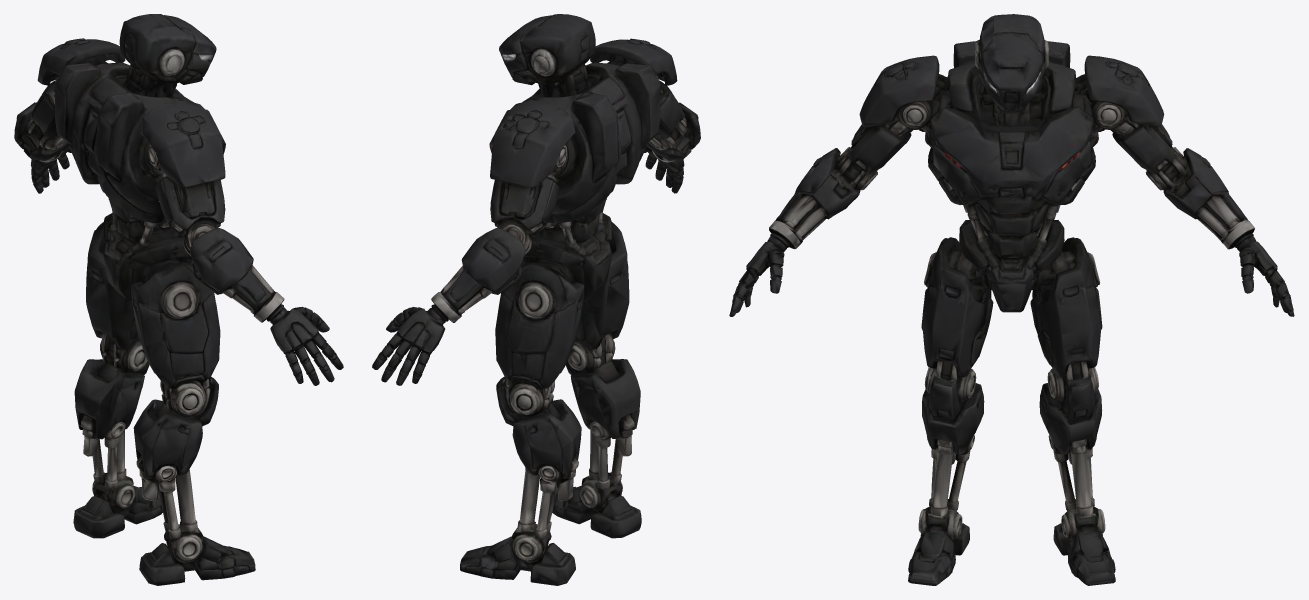
Rendered from robot.glb.
The picture shows the model from 3 angles, left to right: view 1: azimuth 30°, elevation 25°; view 2: azimuth 150°, elevation 25°; view 3: azimuth 270°, elevation 25°; orthographic projection.
Visible parts, largest first — view 1: tripo_node_f48e6271-146c-4523-a5e6-26322b852031; view 2: tripo_node_f48e6271-146c-4523-a5e6-26322b852031; view 3: tripo_node_f48e6271-146c-4523-a5e6-26322b852031.
Boxes of the visible parts, x1,y1,x2,y2 form: tripo_node_f48e6271-146c-4523-a5e6-26322b852031: (14,14,343,585); tripo_node_f48e6271-146c-4523-a5e6-26322b852031: (372,14,700,585); tripo_node_f48e6271-146c-4523-a5e6-26322b852031: (729,14,1294,585).
Bounding box in the file's own units: 0.1581 × 0.5999 × 0.5726.
1 material, 1 textured.
